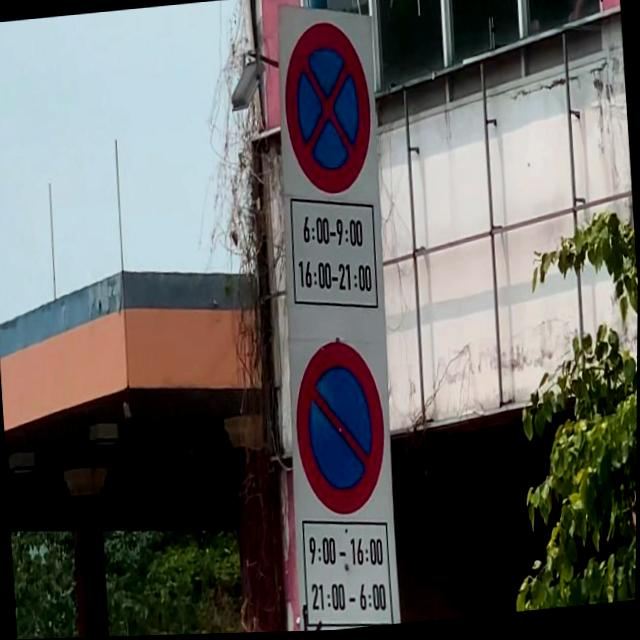Cam do xe: (290, 330, 394, 529)
Cam dung xe va do xe: (275, 16, 380, 206)
